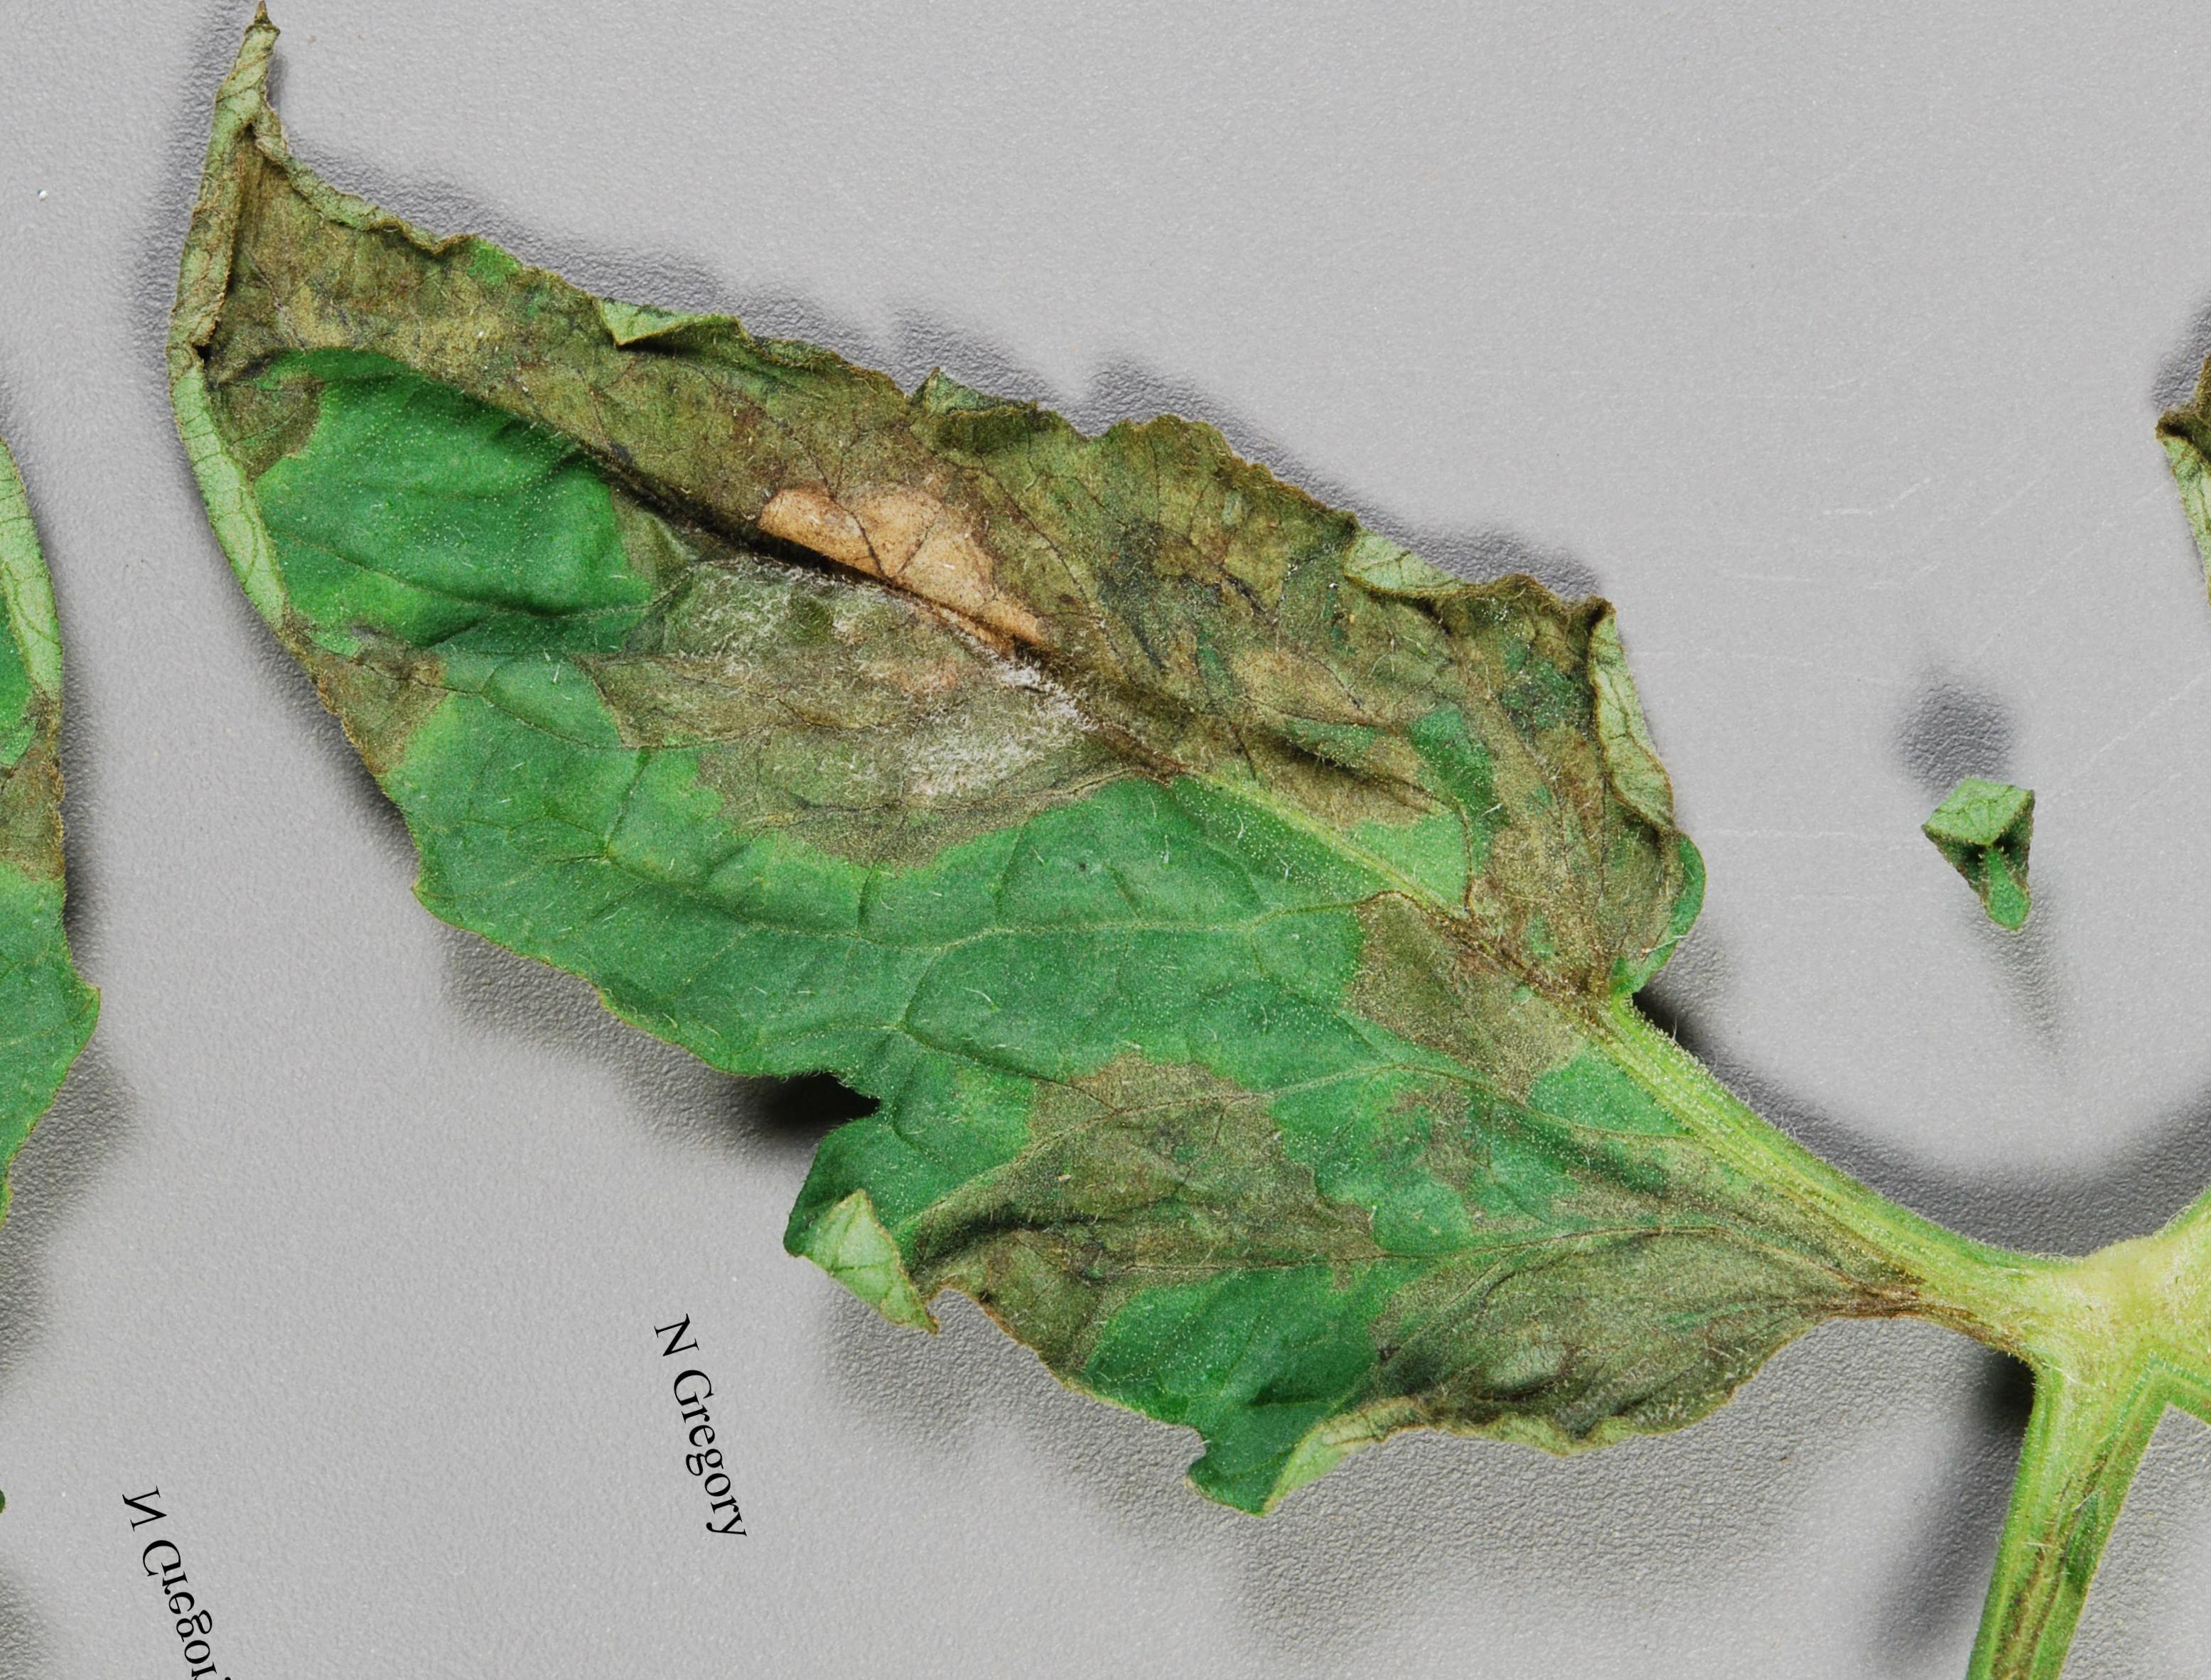Tomato leaf late blight: (69, 0, 2001, 1680)
